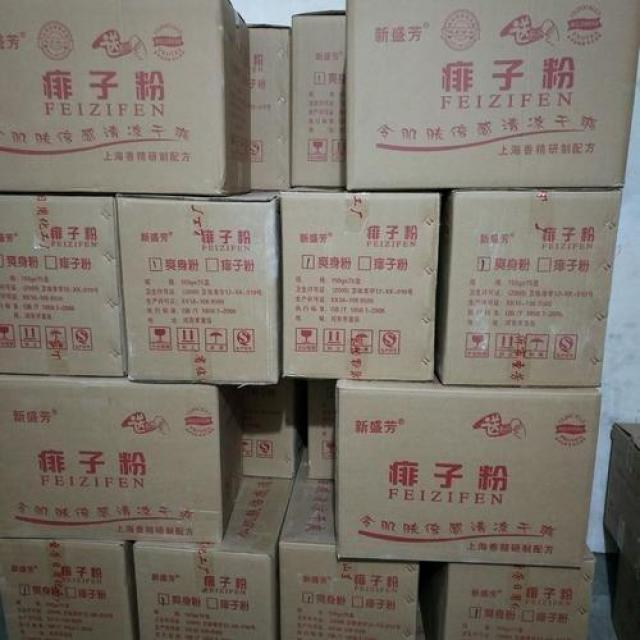box: (340, 0, 636, 193), (0, 0, 258, 196), (332, 374, 585, 560), (0, 375, 242, 545), (439, 186, 605, 397), (282, 191, 449, 395), (117, 194, 286, 391), (0, 180, 135, 382), (135, 483, 291, 640), (292, 480, 425, 640), (0, 529, 141, 636), (429, 553, 596, 640), (292, 0, 363, 189), (241, 16, 291, 195), (229, 380, 307, 483)
